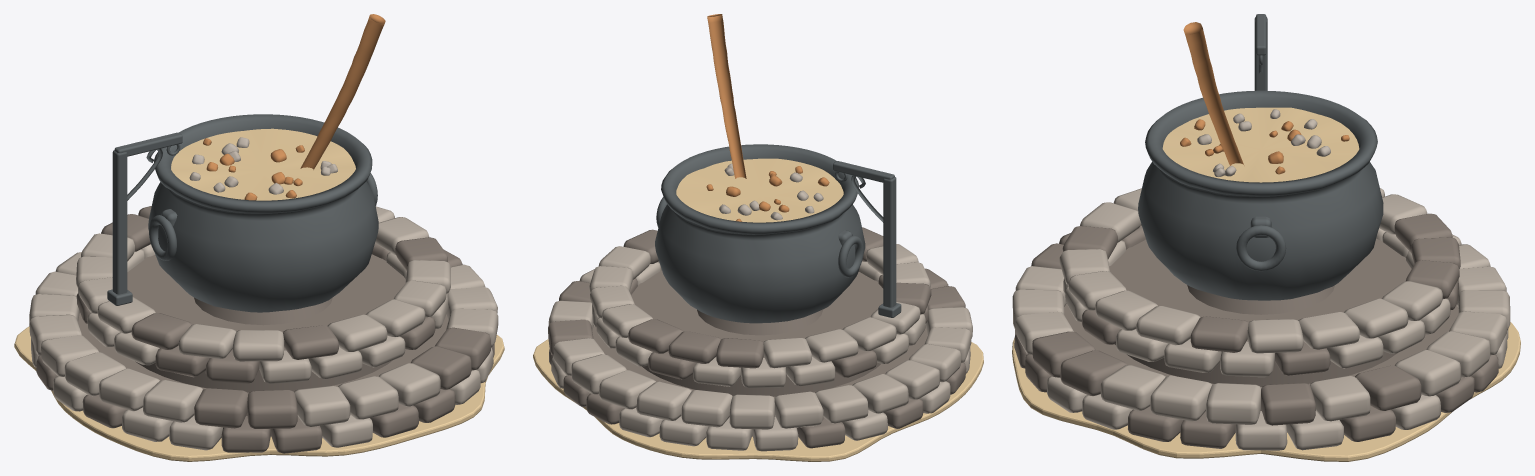
Rendered from HUB_FOUNTAIN.glb.
The picture shows the model from 3 angles, left to right: view 1: azimuth 30°, elevation 25°; view 2: azimuth 150°, elevation 25°; view 3: azimuth 270°, elevation 25°; orthographic projection. The views are drawn at different scales.
Visible parts, largest first — view 1: basin_stones, cauldron, basin_stones_dark, inner_floor, broth, sand_base, iron_bracket, ladle_handle, basin_floor, pot_stand, broth_veg_potato, broth_veg_carrot (+1 smaller); view 2: basin_stones, cauldron, basin_stones_dark, inner_floor, broth, sand_base, iron_bracket, ladle_handle, pot_stand, basin_floor, broth_veg_potato, cauldron_ring_1 (+1 smaller); view 3: basin_stones, cauldron, basin_stones_dark, inner_floor, broth, sand_base, ladle_handle, pot_stand, basin_floor, cauldron_ring_0, broth_veg_potato, iron_bracket (+1 smaller).
Boxes of the visible parts, left/top/right/bottom form: basin_stones: left=29, top=206, right=498, bottom=450; cauldron: left=148, top=114, right=378, bottom=312; basin_stones_dark: left=36, top=206, right=494, bottom=453; inner_floor: left=127, top=254, right=405, bottom=392; broth: left=171, top=128, right=355, bottom=200; sand_base: left=14, top=326, right=504, bottom=461; iron_bracket: left=107, top=132, right=182, bottom=305; ladle_handle: left=300, top=14, right=385, bottom=169; basin_floor: left=78, top=314, right=448, bottom=436; pot_stand: left=194, top=297, right=332, bottom=325; broth_veg_potato: left=189, top=137, right=337, bottom=194; broth_veg_carrot: left=203, top=138, right=304, bottom=200; basin_stones: left=548, top=244, right=972, bottom=451; cauldron: left=655, top=144, right=865, bottom=323; basin_stones_dark: left=548, top=227, right=966, bottom=448; inner_floor: left=631, top=270, right=883, bottom=396; broth: left=676, top=158, right=843, bottom=222; sand_base: left=533, top=339, right=983, bottom=461; iron_bracket: left=833, top=161, right=901, bottom=317; ladle_handle: left=707, top=14, right=746, bottom=178; pot_stand: left=697, top=309, right=823, bottom=335; basin_floor: left=592, top=326, right=927, bottom=436; broth_veg_potato: left=719, top=163, right=823, bottom=220; cauldron_ring_1: left=838, top=235, right=863, bottom=277; basin_stones: left=1012, top=188, right=1510, bottom=450; cauldron: left=1138, top=90, right=1383, bottom=300; basin_stones_dark: left=1014, top=213, right=1498, bottom=448; inner_floor: left=1109, top=238, right=1411, bottom=386; broth: left=1162, top=107, right=1359, bottom=182; sand_base: left=1012, top=322, right=1520, bottom=461; ladle_handle: left=1183, top=22, right=1244, bottom=165; pot_stand: left=1187, top=285, right=1334, bottom=314; basin_floor: left=1064, top=303, right=1458, bottom=432; cauldron_ring_0: left=1236, top=225, right=1286, bottom=271; broth_veg_potato: left=1197, top=109, right=1330, bottom=176; iron_bracket: left=1254, top=14, right=1267, bottom=90.
Bounding box in the file's own units: 21.4 × 17.53 × 21.69.
